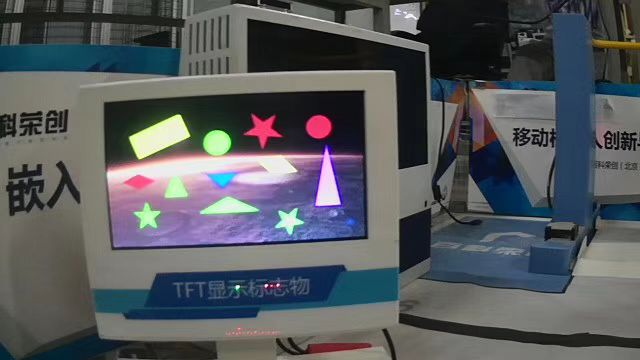graph: (98, 89, 376, 252)
